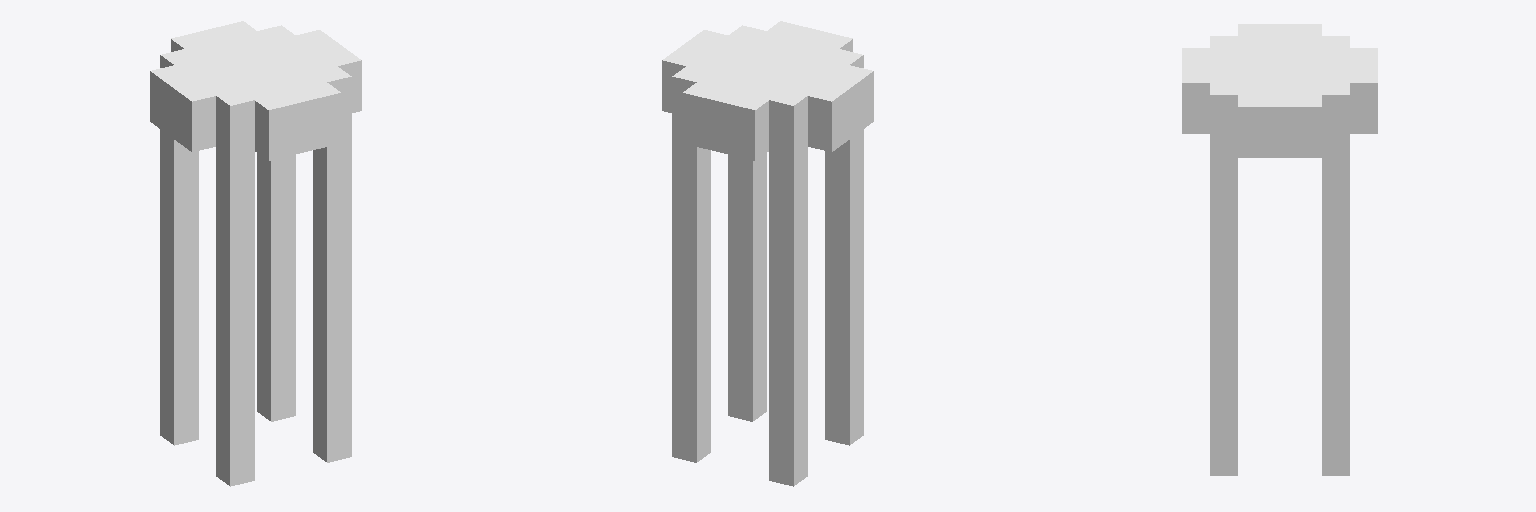
The model's file is Food_Shop-0.obj.
The picture shows the model from 3 angles: view 1: azimuth 30°, elevation 25°; view 2: azimuth 150°, elevation 25°; view 3: azimuth 270°, elevation 25°; orthographic projection.
Parts seen in each view (by area): view 1: object 1; view 2: object 1; view 3: object 1.
Part boxes in pixels (x1,y1,x2,y2): object 1: (150,21,361,486); object 1: (662,21,873,486); object 1: (1182,24,1377,475).
Bounding box in the file's own units: 0.7 × 1.5 × 0.7.